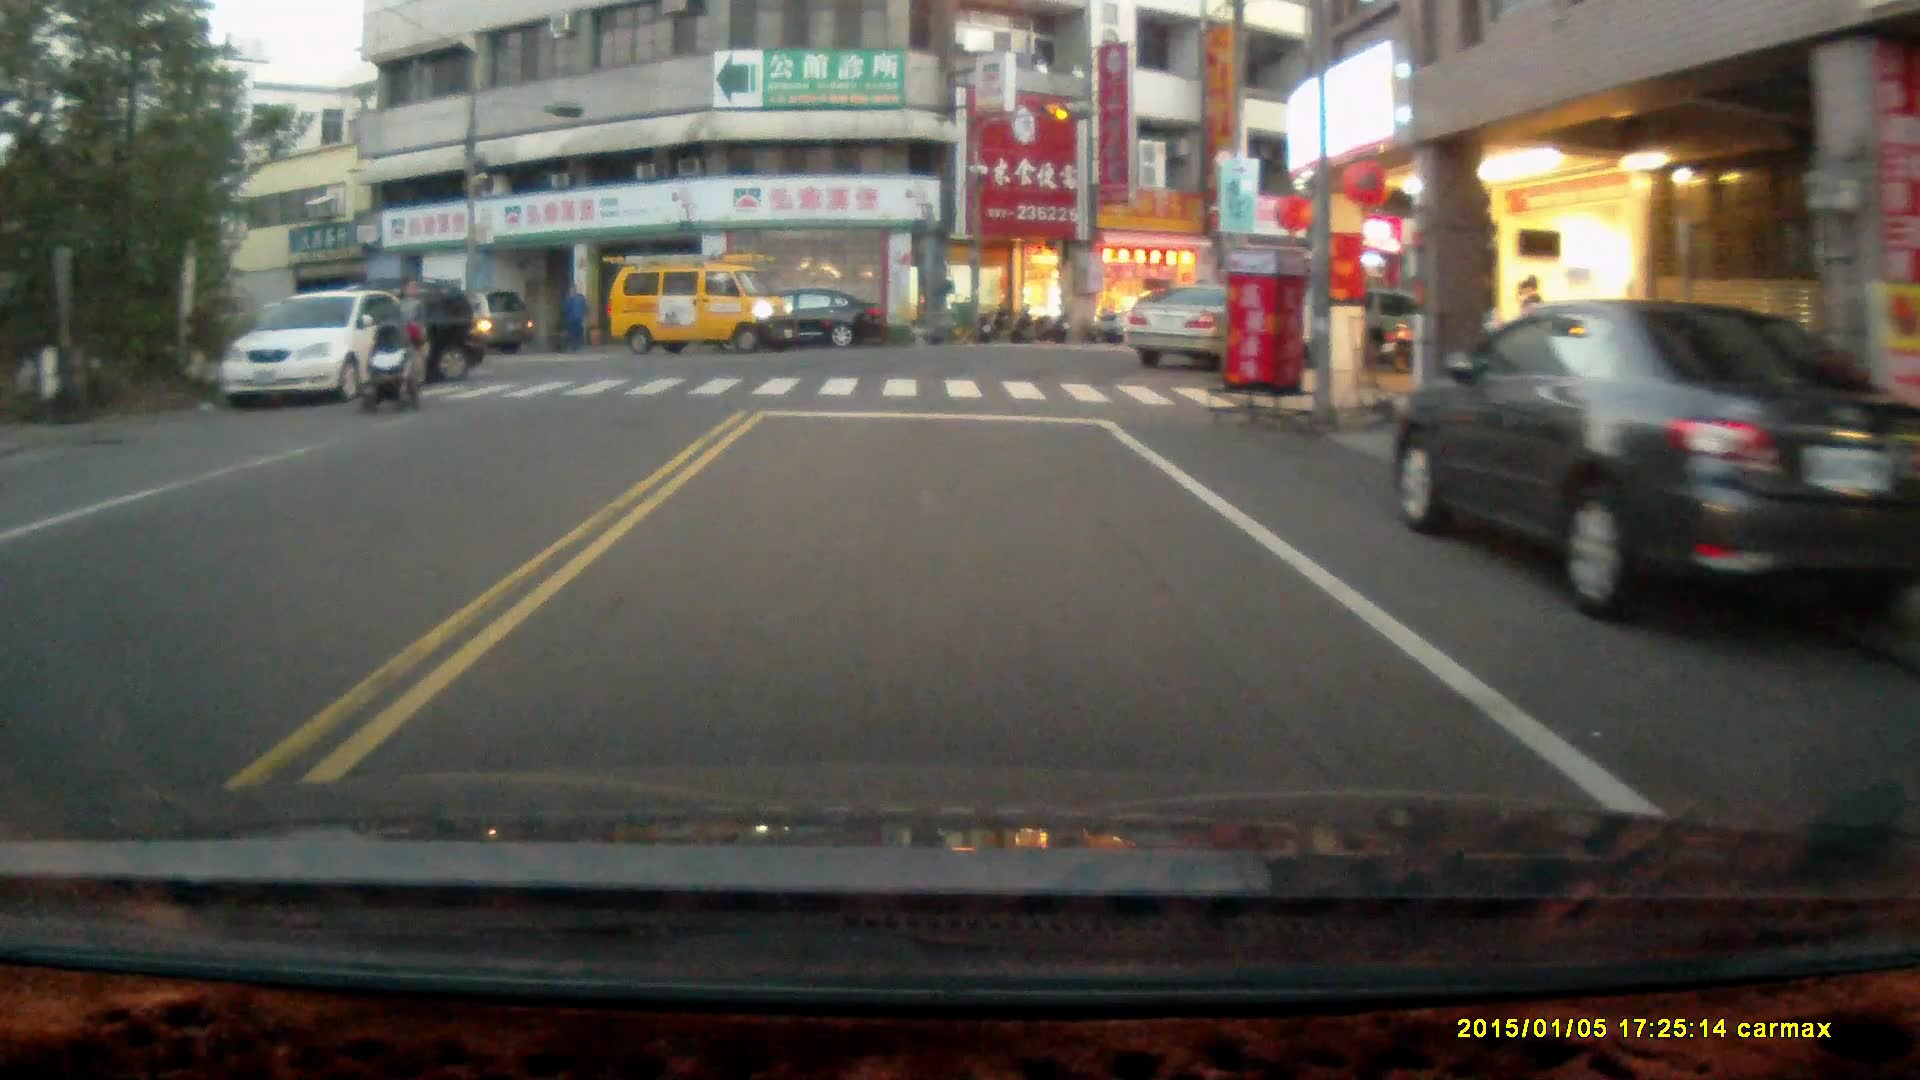pedestrian: (387, 274, 429, 395), (558, 280, 584, 351)
rider: (354, 319, 419, 415)
vehicle: (1388, 299, 1908, 630), (222, 293, 424, 414), (265, 275, 483, 383), (609, 252, 793, 354), (731, 282, 885, 351), (405, 286, 540, 364), (1124, 286, 1236, 371)
